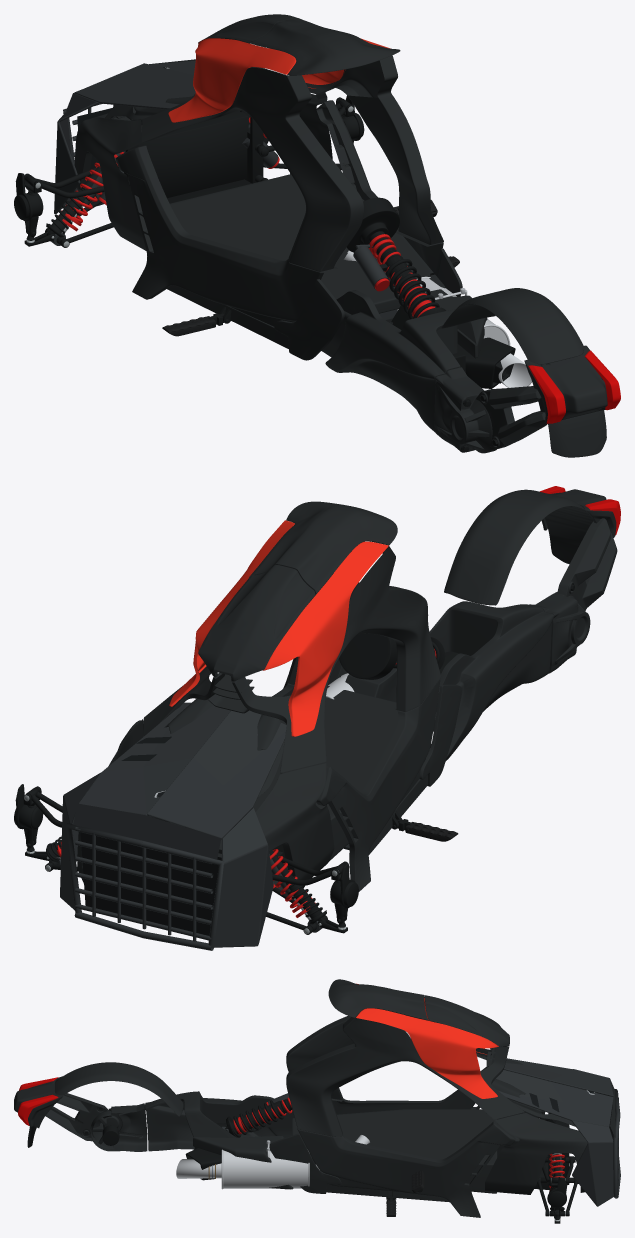
The model's file is ryker-accessories.glb.
The picture shows the model from 3 angles, top to bottom: view 1: azimuth 30°, elevation 25°; view 2: azimuth 150°, elevation 25°; view 3: azimuth 270°, elevation 25°; orthographic projection. The views are drawn at different scales.
Parts seen in each view (by area): view 1: retained_body_panels_mesh, retained_rear_mechanical_mesh, retained_front_links_mesh, stock_ryker_body_mesh, ryker_mod_body_geometry, ryker_mod_shocks_geometry, stock_ryker_shocks_rear_mesh, ryker_mod_exhaust_geometry, stock_ryker_exhaust_mesh, stock_ryker_shocks_mesh; view 2: retained_body_panels_mesh, ryker_mod_body_geometry, retained_rear_mechanical_mesh, stock_ryker_body_mesh, retained_front_links_mesh, stock_ryker_shocks_mesh, stock_ryker_exhaust_mesh, ryker_mod_shocks_geometry; view 3: retained_body_panels_mesh, retained_rear_mechanical_mesh, ryker_mod_body_geometry, stock_ryker_body_mesh, ryker_mod_exhaust_geometry, retained_front_links_mesh, stock_ryker_exhaust_mesh, stock_ryker_shocks_rear_mesh, ryker_mod_shocks_geometry.
Part boxes in pixels (x1,y1,x2,y2): retained_body_panels_mesh: (116,14,445,326); retained_rear_mechanical_mesh: (162,197,620,457); retained_front_links_mesh: (14,96,364,247); stock_ryker_body_mesh: (74,94,332,250); ryker_mod_body_geometry: (54,59,268,214); ryker_mod_shocks_geometry: (50,117,434,317); stock_ryker_shocks_rear_mesh: (369,231,445,319); ryker_mod_exhaust_geometry: (344,250,531,387); stock_ryker_exhaust_mesh: (391,289,487,358); stock_ryker_shocks_mesh: (46,166,100,237); retained_body_panels_mesh: (118,501,441,891); ryker_mod_body_geometry: (60,702,286,950); retained_rear_mechanical_mesh: (328,486,620,854); stock_ryker_body_mesh: (77,698,334,894); retained_front_links_mesh: (14,784,358,934); stock_ryker_shocks_mesh: (46,836,326,924); stock_ryker_exhaust_mesh: (341,668,396,702); ryker_mod_shocks_geometry: (49,649,436,932); retained_body_panels_mesh: (286,979,524,1217); retained_rear_mechanical_mesh: (14,1062,449,1216); ryker_mod_body_geometry: (496,1058,620,1206); stock_ryker_body_mesh: (485,1059,596,1194); ryker_mod_exhaust_geometry: (176,1135,369,1189); retained_front_links_mesh: (497,1111,578,1223); stock_ryker_exhaust_mesh: (193,1136,293,1189); stock_ryker_shocks_rear_mesh: (226,1098,292,1137); ryker_mod_shocks_geometry: (222,1093,564,1218).
Size of the model in its own units: 0.9932 by 0.8169 by 2.32.
